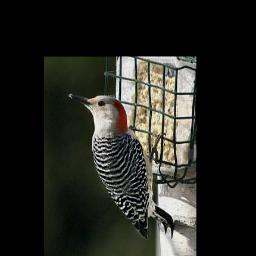Woodpecker: (68, 92, 174, 239)
